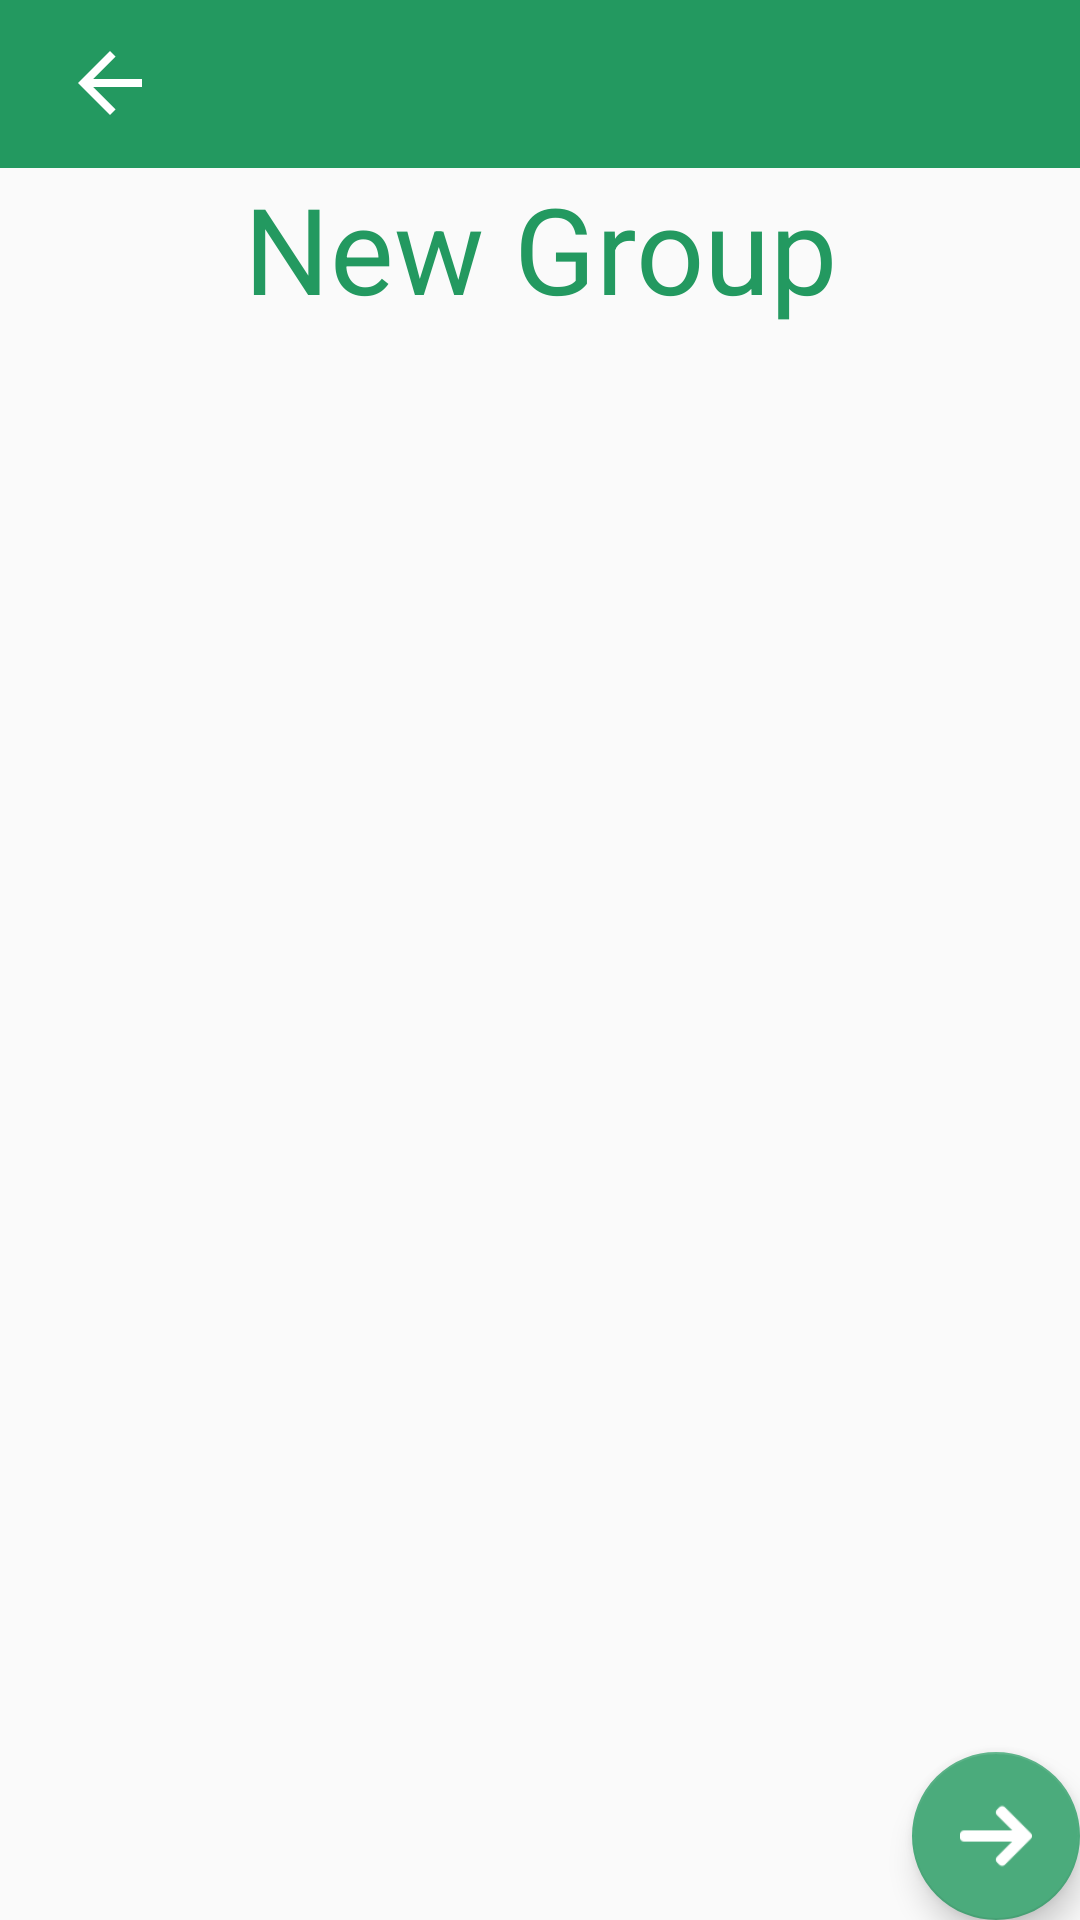

Icons on this 1080px x 1920px Android screen, each with its box as (x1=x1, y1=y1, x2=x2, y2=y2):
back arrow: (x1=78, y1=51, x2=142, y2=115)
